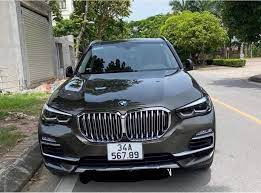Car number plates: (107, 143, 143, 160)
